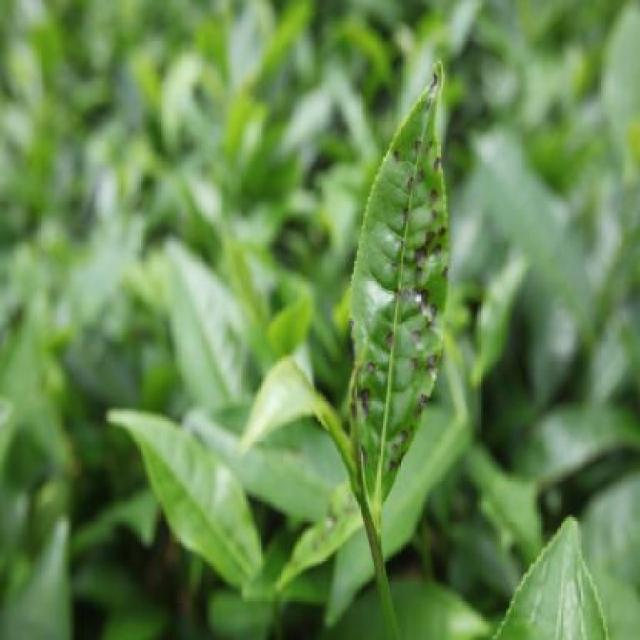Tea Mosquito bug infested leaf: (348, 59, 458, 512)
